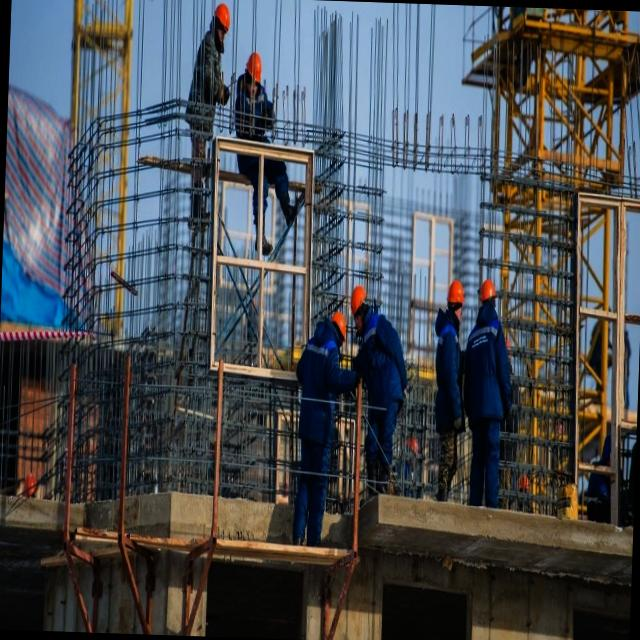Helmet: (350, 284, 371, 334), (213, 1, 233, 48), (246, 48, 263, 98), (330, 313, 348, 354), (446, 281, 467, 314), (479, 280, 500, 312)
